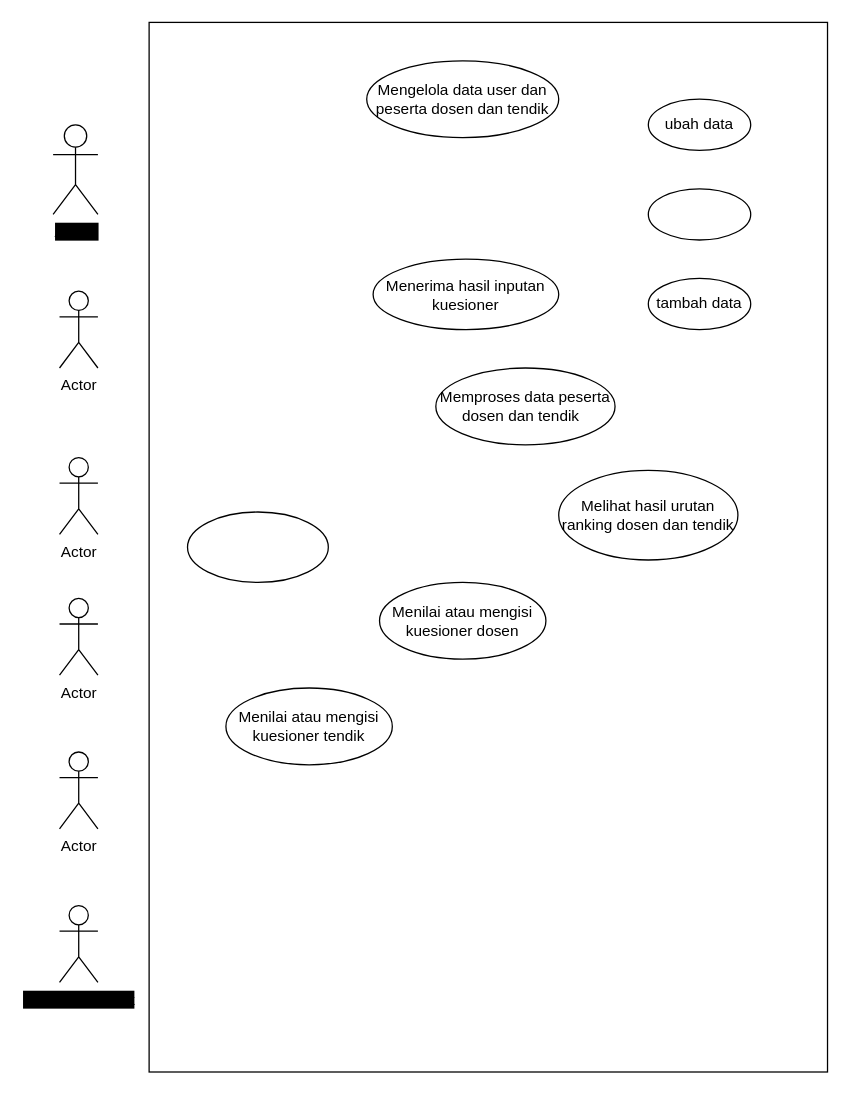
Some shapes in this 850 by 1094 pixel diagram are drawn without their labels. Here are the shapes that lost their labels. From the top down, the box of each, then its label:
(647, 188, 751, 240): hapus data
(186, 511, 328, 582): Login
